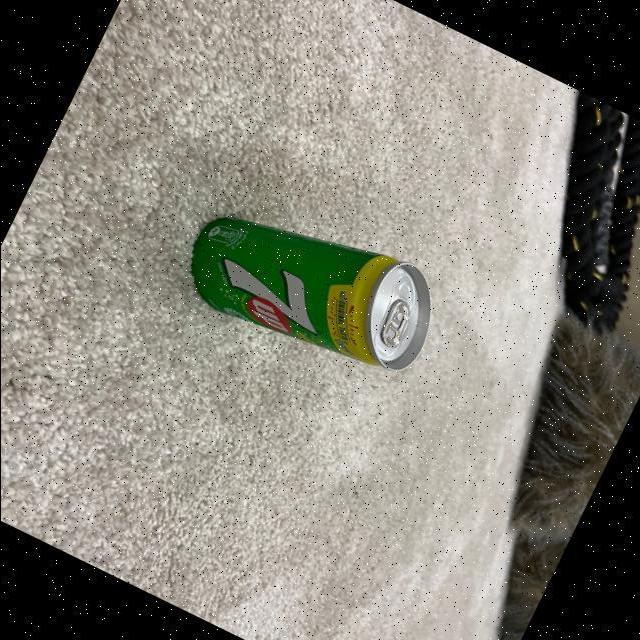can: (168, 169, 459, 402)
